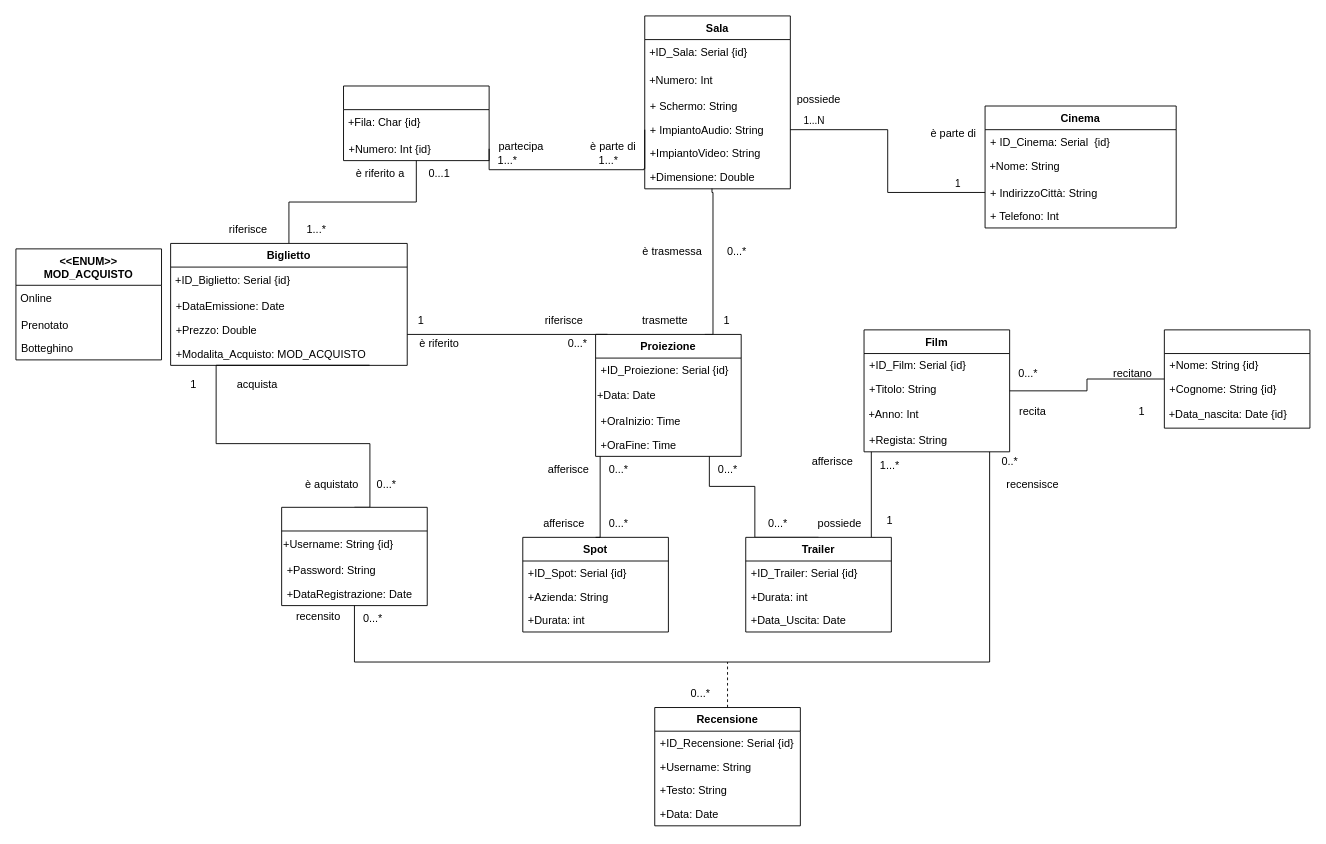
Image size: 1326x844. Some labels were removed from this diagram. Here are the shapes that lost their labels. From the top down, the box of each, then its label:
(343, 85, 489, 161): Posto
(1163, 329, 1310, 428): Attore
(281, 506, 427, 606): Cliente
